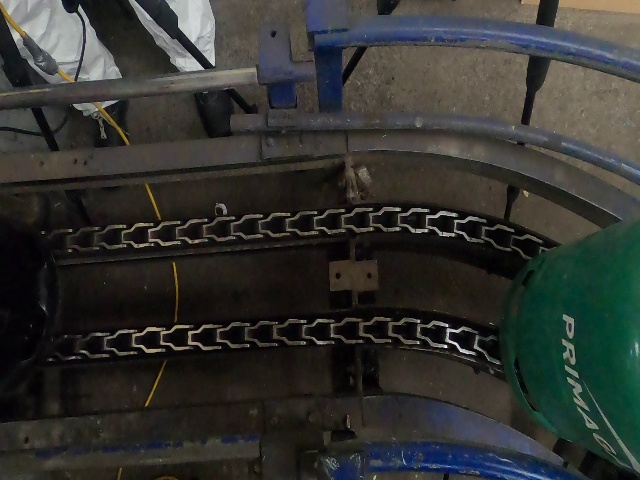gas_bottle: (5, 3, 640, 480)
